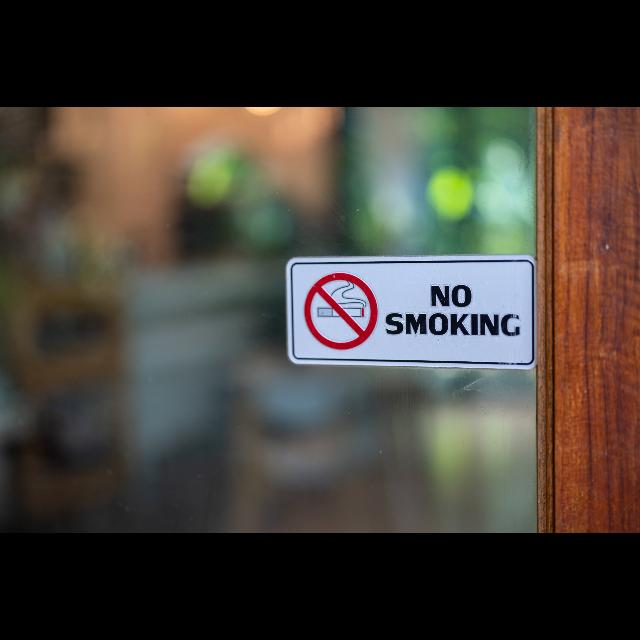cam hut thuoc: (286, 255, 537, 370)
